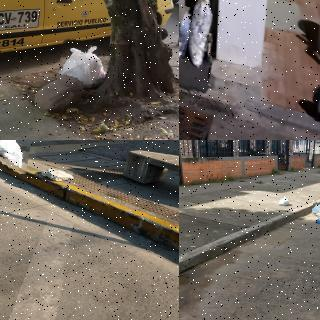Garbage: (58, 40, 111, 92), (187, 0, 211, 67), (0, 140, 31, 172), (179, 5, 191, 59), (311, 203, 320, 219), (277, 195, 290, 206), (314, 218, 320, 224)
